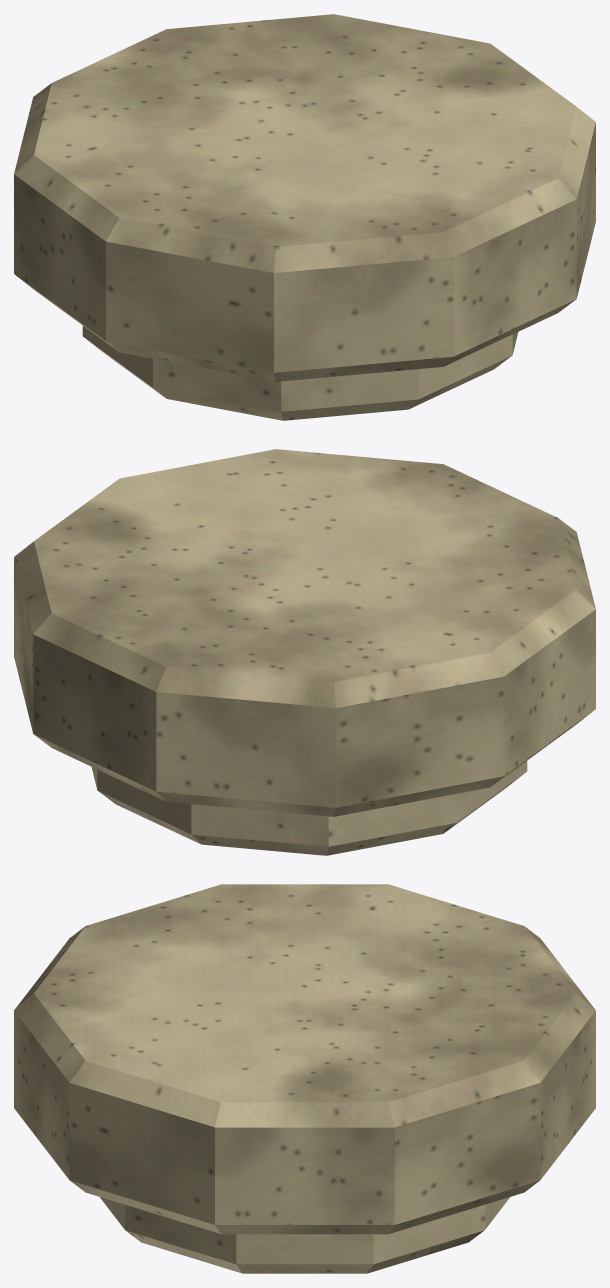
File: SmokeDetector.fbx
The picture shows the model from 3 angles, top to bottom: view 1: azimuth 30°, elevation 25°; view 2: azimuth 150°, elevation 25°; view 3: azimuth 270°, elevation 25°; orthographic projection. The views are drawn at different scales.
Visible parts, largest first — view 1: SmokeDetector; view 2: SmokeDetector; view 3: SmokeDetector.
Part boxes in pixels (x1,y1,x2,y2): SmokeDetector: (14, 14, 595, 420); SmokeDetector: (14, 449, 595, 855); SmokeDetector: (14, 884, 595, 1273).
Size of the model in its own units: 0.2924 by 0.1159 by 0.3075.
Materials: 1 (1 with a texture image).
